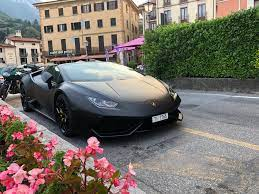Lamborghini: (19, 61, 183, 136)
